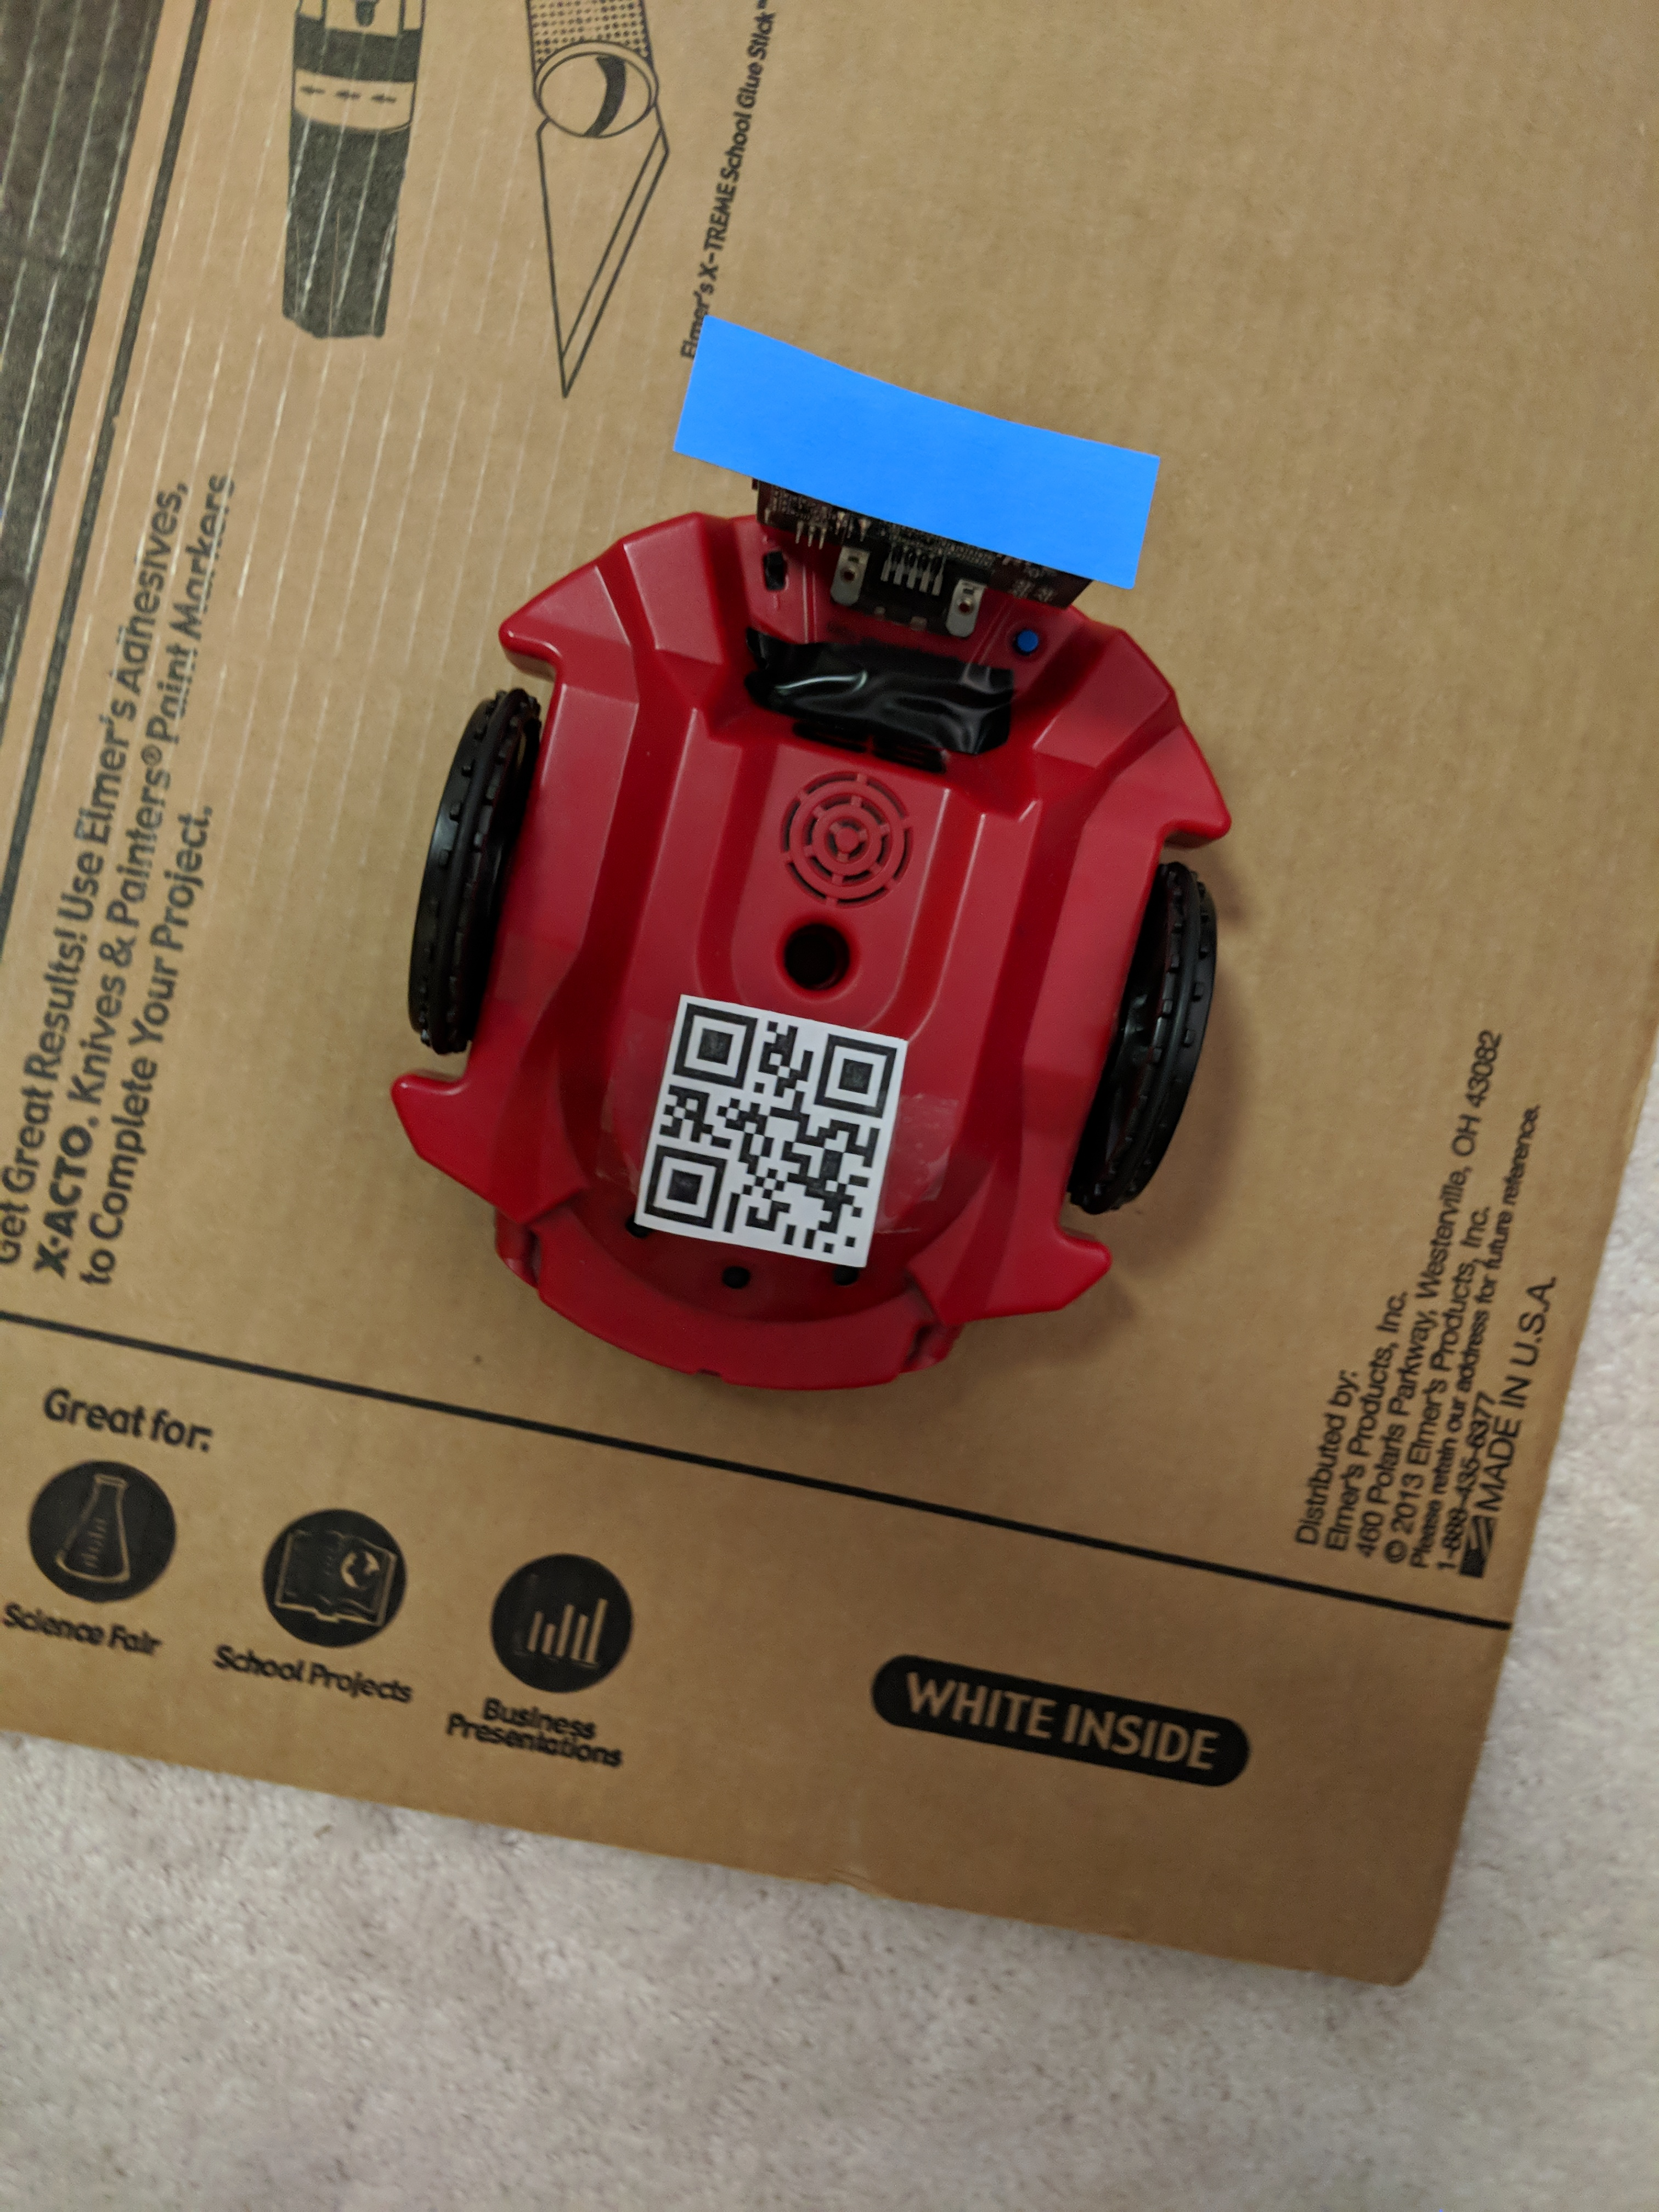chassis: (380, 305, 1262, 1411)
qr: (622, 975, 910, 1298)
